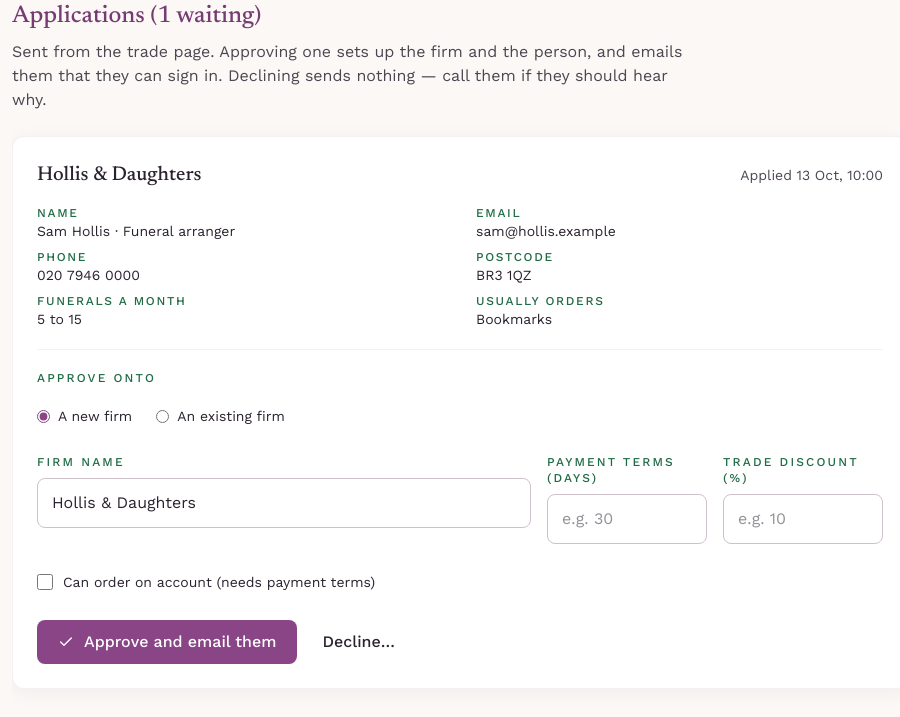
Test: AdminTradeApplications › approves onto a new firm named after the business, and says the applicant was emailed
Expected: the heading "Applications (1 waiting)" is shown, [12,4,261,28]
Expected: the field labelled "Firm name" holds "Hollis & Daughters", [37,478,531,528]
Type "30" into the field labelled "Payment terms (days)" at [627, 519], box [547,494,707,544]
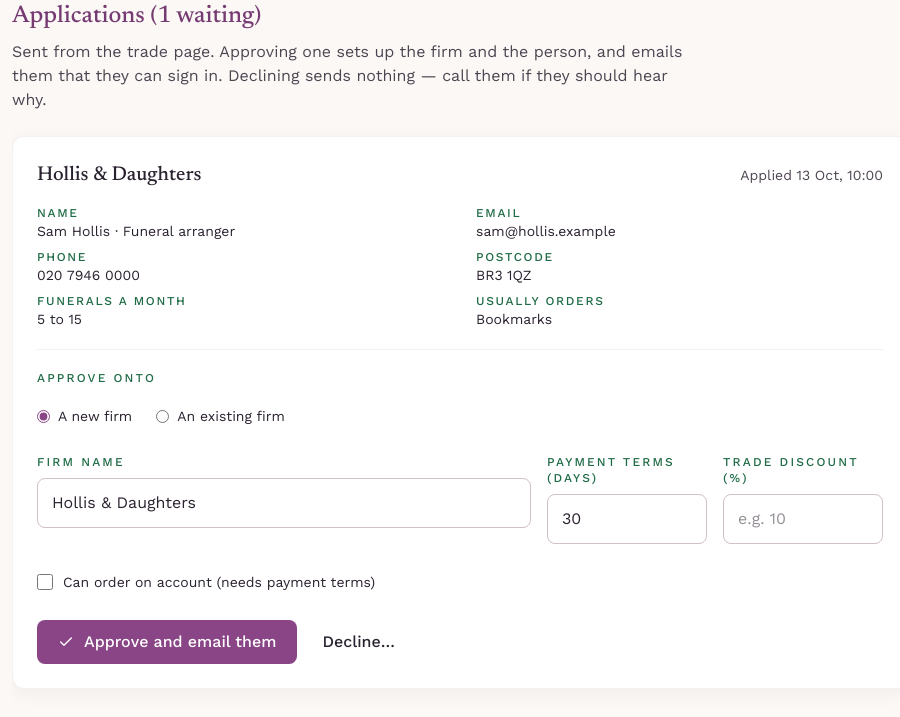
Type "10" into the field labelled "Trade discount (%)" at [803, 519], box [723,494,883,544]
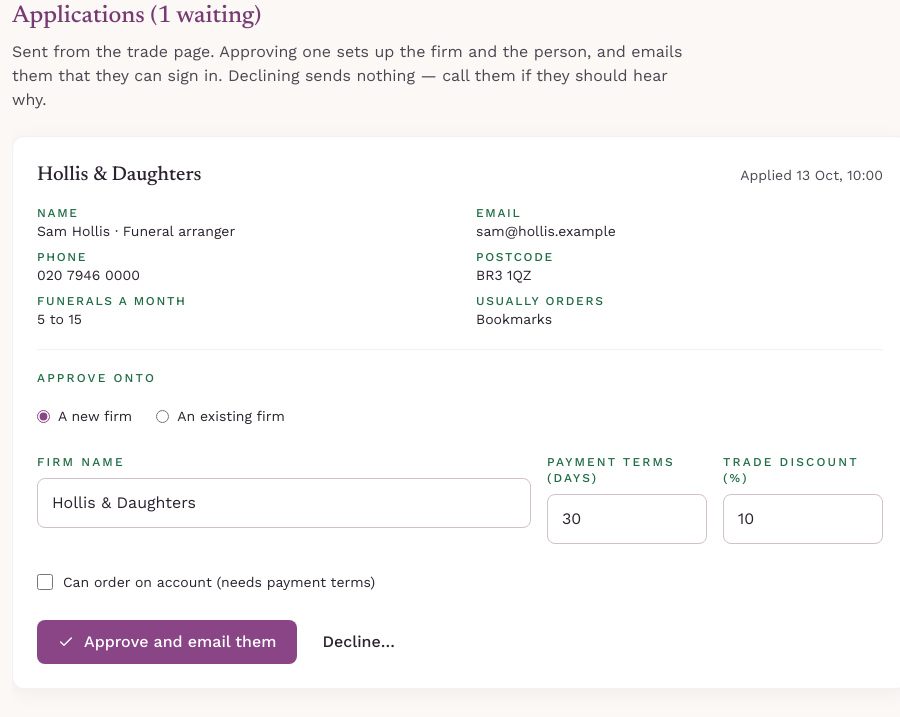
Click the checkbox labelled "Can order on account (needs payment terms)" at [45, 582], box [37,574,53,590]
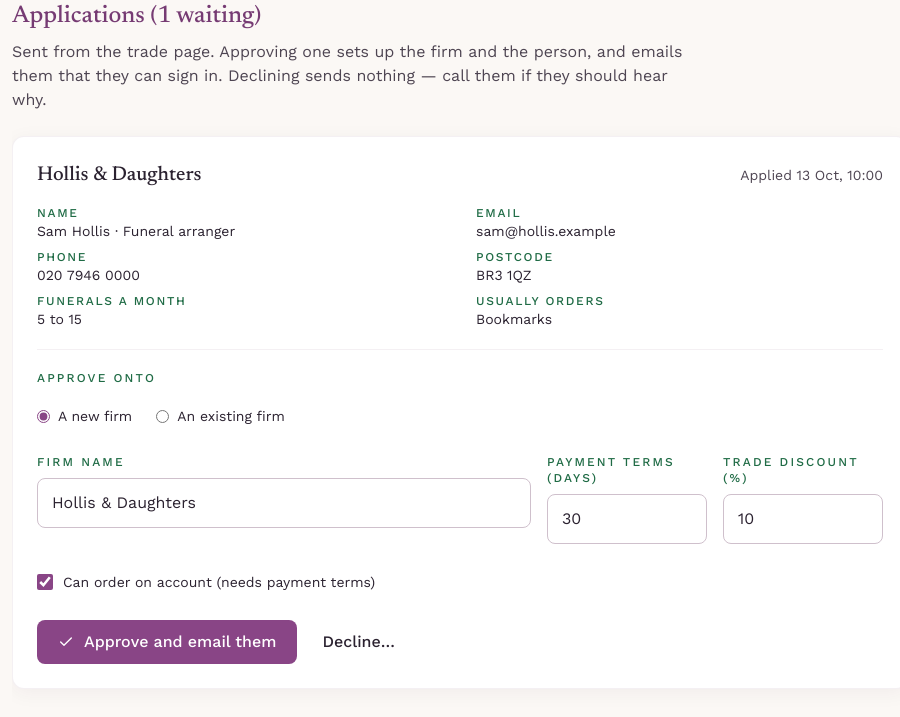
Click the button "Approve and email them" at [167, 642], box [37,620,297,664]
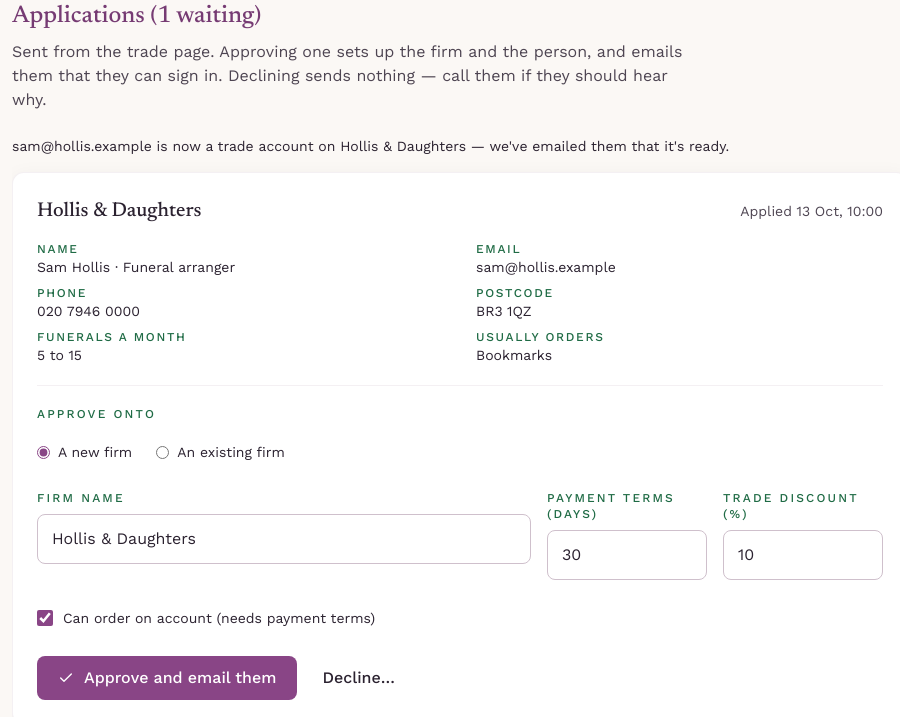
Expected: the message shows "sam@hollis.example is now a trade account on Hollis & Daughters — we've emailed them that it's ready.", [12,138,729,154]
